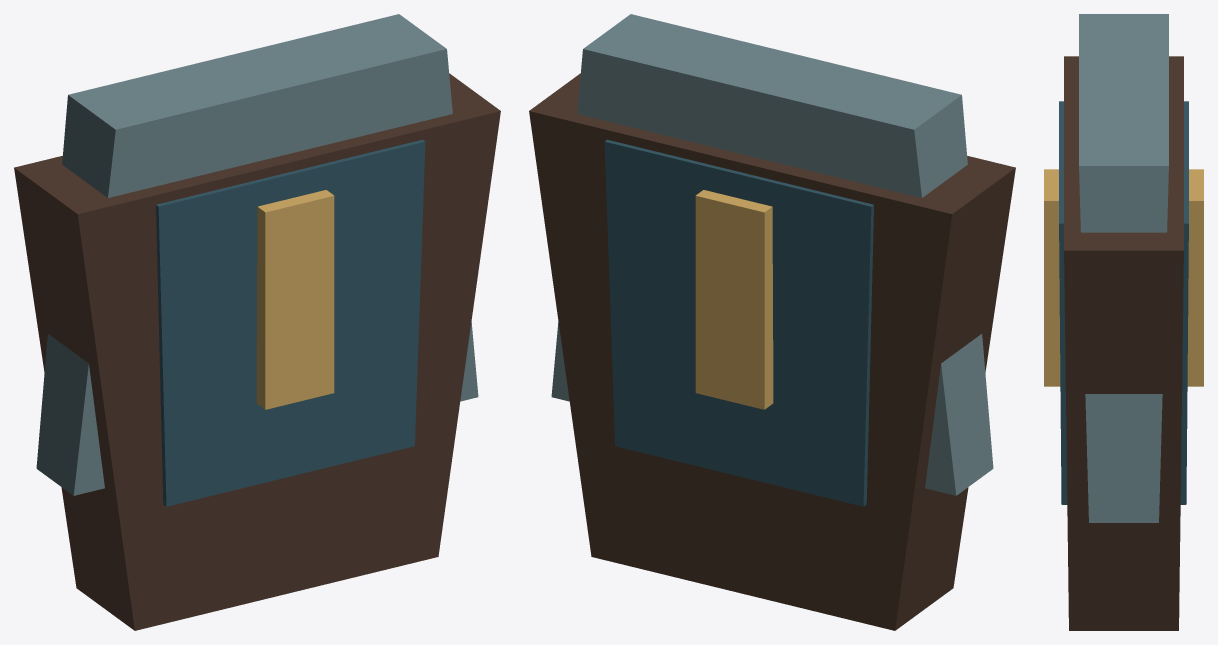
The model's file is kite_shield.obj.
The picture shows the model from 3 angles, left to right: view 1: azimuth 30°, elevation 25°; view 2: azimuth 150°, elevation 25°; view 3: azimuth 270°, elevation 25°; orthographic projection. The views are drawn at different scales.
Visible parts, largest first — view 1: KiteShield; view 2: KiteShield; view 3: KiteShield.
Boxes of the visible parts, <box> form: KiteShield: <box>14,14,500,630</box>; KiteShield: <box>529,14,1015,630</box>; KiteShield: <box>1044,14,1203,630</box>.
Bounding box in the file's own units: 0.92 × 1.04 × 0.32.
